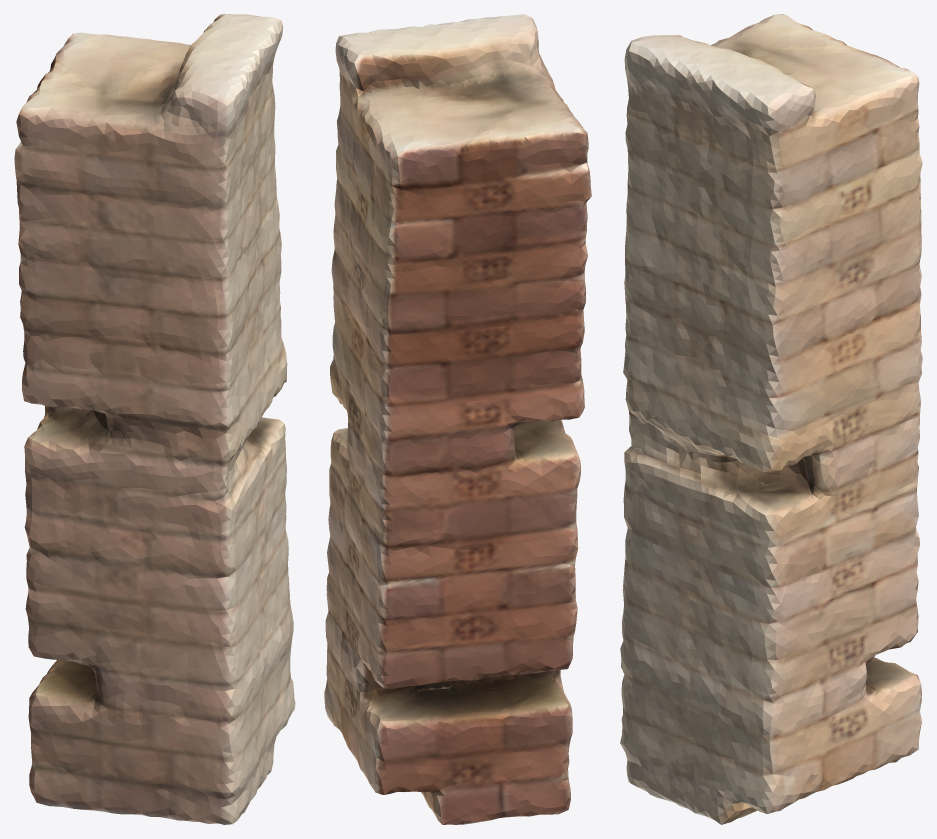
3 renders of one model, left to right at view 1: azimuth 30°, elevation 25°; view 2: azimuth 150°, elevation 25°; view 3: azimuth 270°, elevation 25°, orthographic. The views are drawn at different scales.
Parts seen in each view (by area): view 1: world; view 2: world; view 3: world.
Boxes of the visible parts, box(x1,y1,x2,y2) form: world: box(14, 14, 295, 824); world: box(324, 14, 591, 824); world: box(620, 14, 922, 824).
Size of the model in its own units: 0.3914 by 1 by 0.3685.
Materials: 1 (1 with a texture image).
